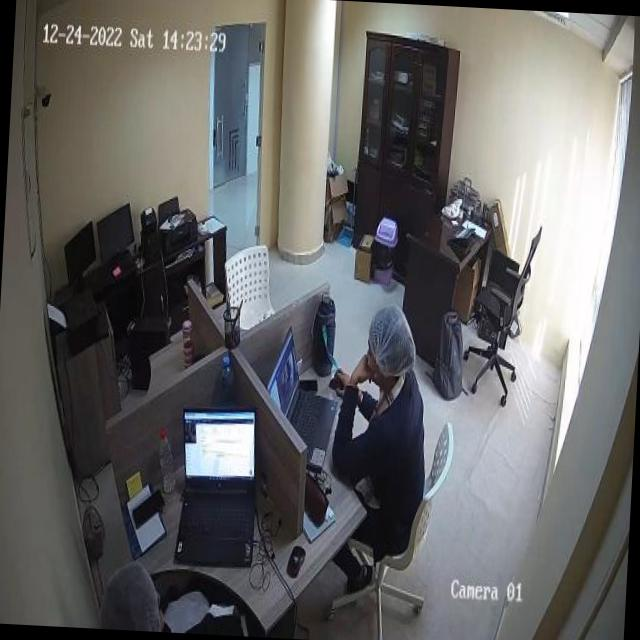hairnet: (98, 562, 166, 632), (369, 304, 416, 374)
